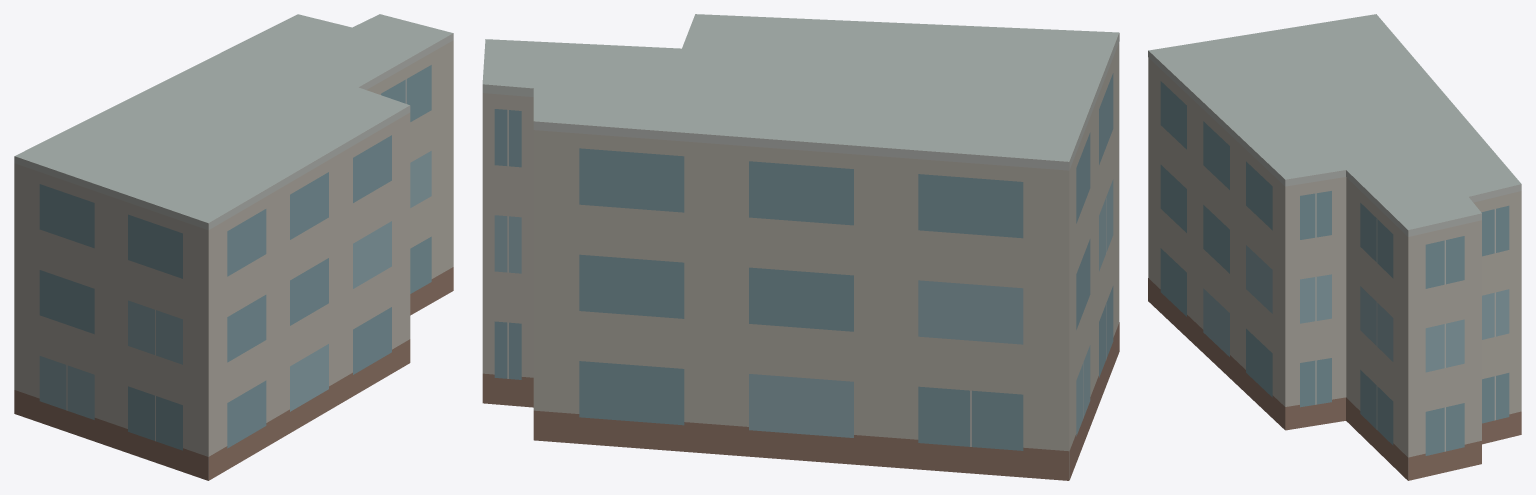
Rendered from survey-upis-32840044.glb.
3 renders of one model, left to right at view 1: azimuth 30°, elevation 25°; view 2: azimuth 150°, elevation 25°; view 3: azimuth 270°, elevation 25°, orthographic. The views are drawn at different scales.
Visible parts, largest first — view 1: survey-upis-32840044.tmp; view 2: survey-upis-32840044.tmp; view 3: survey-upis-32840044.tmp.
Part boxes in pixels (box(x1,y1,x2,y2)): survey-upis-32840044.tmp: box(14, 14, 453, 480); survey-upis-32840044.tmp: box(482, 14, 1119, 480); survey-upis-32840044.tmp: box(1148, 14, 1521, 480).
Size of the model in its own units: 16.47 by 8.9 by 12.02.
